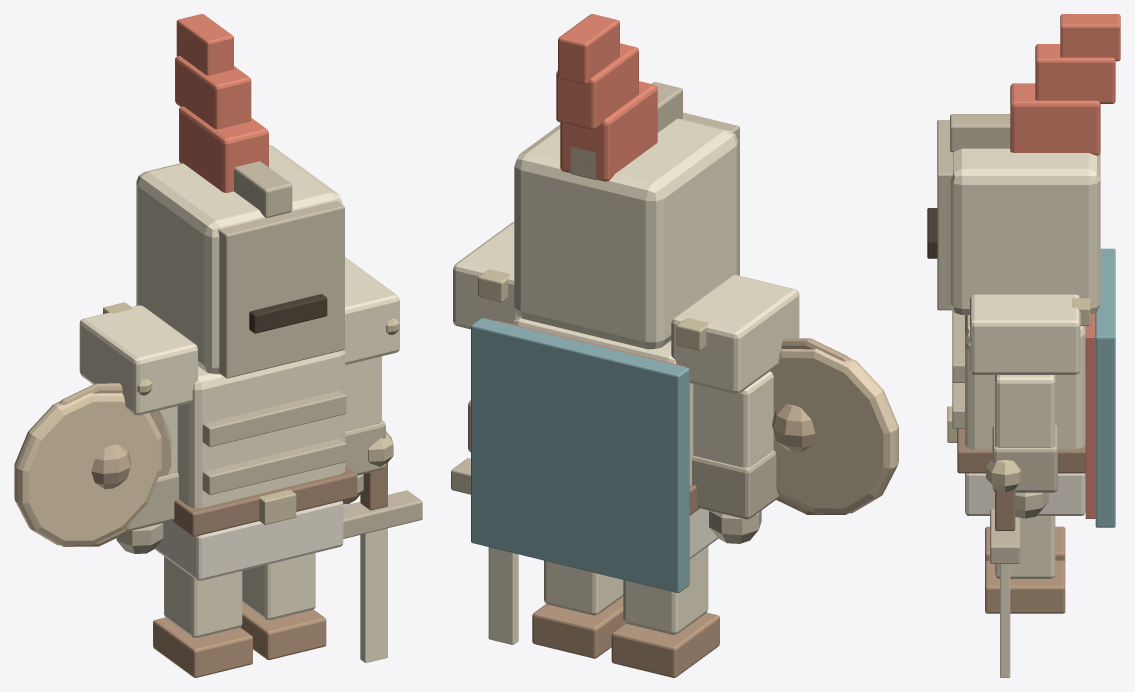
The model's file is knight_v3.glb.
3 views of the same model, side by side, from view 1: azimuth 30°, elevation 25°; view 2: azimuth 150°, elevation 25°; view 3: azimuth 270°, elevation 25° (orthographic). The views are drawn at different scales.
Visible parts, largest first — view 1: Helmet_Face, Helmet, Shield_Disc, Body_Cuirass, Pauldron_L, Tunic_Skirt, Plume_Base, LegL_Greave, Pauldron_R, Belt_Strap, Plume_Mid, LegR_Greave (+19 smaller); view 2: Cape_Outer, Helmet, Shield_Disc, Pauldron_L, ArmL_Upper, Plume_Base, LegL_Boot, ArmL_Cuff, Pauldron_R, Plume_Mid, LegL_Greave, LegR_Boot (+12 smaller); view 3: Helmet, Pauldron_R, Cape_Outer, Plume_Base, Body_Cuirass, ArmR_Upper, Plume_Mid, LegR_Boot, Helmet_Face, Plume_Top, Tunic_Skirt, LegR_Greave (+14 smaller).
Part boxes in pixels (x1,y1,x2,y2): Helmet_Face: (218,201,344,378); Helmet: (136,144,342,374); Shield_Disc: (14,393,161,545); Body_Cuirass: (177,350,345,508); Pauldron_L: (79,305,197,415); Tunic_Skirt: (154,501,343,580); Plume_Base: (179,106,268,192); LegL_Greave: (164,556,242,638); Pauldron_R: (344,257,399,364); Belt_Strap: (171,466,357,536); Plume_Mid: (175,56,251,129); LegR_Greave: (242,553,315,620); Cape_Outer: (471,318,689,592); Helmet: (514,118,737,349); Shield_Disc: (770,348,898,513); Pauldron_L: (671,275,799,393); ArmL_Upper: (693,371,773,467); Plume_Base: (560,81,657,181); LegL_Boot: (611,612,719,677); ArmL_Cuff: (692,450,778,519); Pauldron_R: (453,222,520,329); Plume_Mid: (556,43,638,129); LegL_Greave: (623,546,708,634); LegR_Boot: (532,596,625,658); Helmet: (950,148,1100,314); Pauldron_R: (970,294,1080,374); Cape_Outer: (1095,248,1115,527); Plume_Base: (1010,83,1100,155); Body_Cuirass: (965,315,1085,449); ArmR_Upper: (995,375,1055,447); Plume_Mid: (1035,44,1115,103); LegR_Boot: (985,560,1065,613); Helmet_Face: (937,120,952,310); Plume_Top: (1060,14,1120,61); Tunic_Skirt: (965,473,1085,515); LegR_Greave: (995,516,1055,578).
Size of the model in its own units: 0.876 by 1.31 by 0.385.
